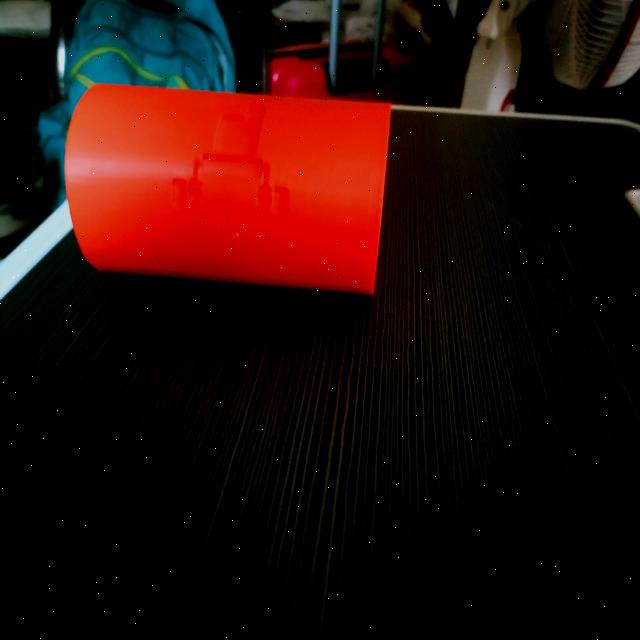Cylinder: (62, 82, 392, 296)
